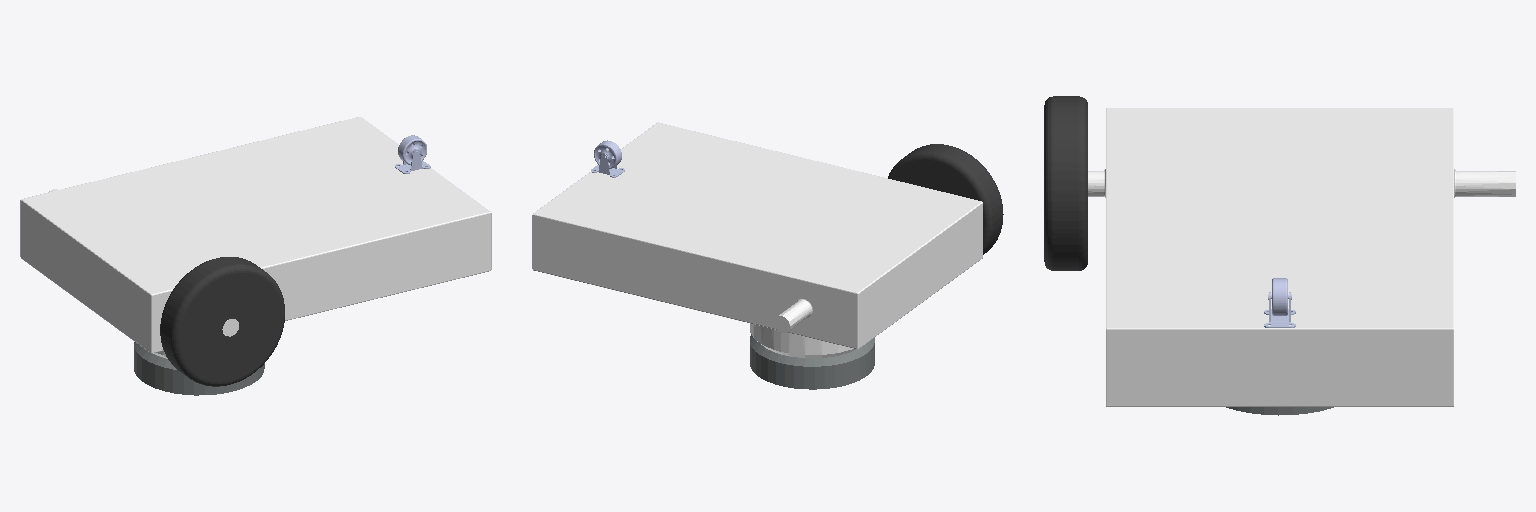
URDF robot description (diff_bot):
<?xml version="1.0" encoding="utf-8"?>
<!-- This URDF was automatically created by SolidWorks to URDF Exporter! Originally created by [author] ([email redacted]) 
     Commit Version: 1.6.0-4-g7f85cfe  Build Version: 1.6.7995.38578
     For more information, please see http://wiki.ros.org/sw_urdf_exporter -->
<robot
  name="diff_bot">

  <!-- The Base Link -->
  <link
    name="base_link">
    <inertial>
      <origin
        xyz="0.093917 -5.5511E-17 -0.055692"
        rpy="0 0 0" />
      <mass
        value="3.4689" />
      <inertia
        ixx="0.012207"
        ixy="-3.1988E-18"
        ixz="-0.00086716"
        iyy="0.025768"
        iyz="3.556E-20"
        izz="0.034797" />
    </inertial>
    <visual>
      <origin
        xyz="0 0 0"
        rpy="0 0 0" />
      <geometry>
        <mesh
          filename="package://diff_bot/meshes/base_link.STL" />
      </geometry>
      <material
        name="">
        <color
          rgba="1 1 1 1" />
      </material>
    </visual>
    <collision>
      <origin
        xyz="0 0 0"
        rpy="0 0 0" />
      <geometry>
        <mesh
          filename="package://diff_bot/meshes/base_link.STL" />
      </geometry>
    </collision>
  </link>
  
  <!-- The Right Wheel -->
  <link
    name="rt_whl">
    <inertial>
      <origin
        xyz="-3.4694E-18 0 0"
        rpy="0 0 0" />
      <mass
        value="0.18864" />
      <inertia
        ixx="0.00012828"
        ixy="-2.9912E-20"
        ixz="-4.7453E-40"
        iyy="0.00023743"
        iyz="1.7768E-37"
        izz="0.00012828" />
    </inertial>
    <visual>
      <origin
        xyz="0 0 0"
        rpy="0 0 0" />
      <geometry>
        <mesh
          filename="package://diff_bot/meshes/rt_whl.STL" />
      </geometry>
      <material
        name="">
        <color
          rgba="0.29804 0.29804 0.29804 1" />
      </material>
    </visual>
    <collision>
      <origin
        xyz="0 0 0"
        rpy="0 0 0" />
      <geometry>
        <mesh
          filename="package://diff_bot/meshes/rt_whl.STL" />
      </geometry>
    </collision>
  </link>
  
  <joint
    name="rt_whl_jnt"
    type="continuous">
    <origin
      xyz="0 0.1225 -0.05"
      rpy="0 0 0" />
    <parent
      link="base_link" />
    <child
      link="rt_whl" />
    <axis
      xyz="0 -1 0" />
  </joint>
  
  <!-- The Left Wheel -->
  <link
    name="lft_whl">
    <inertial>
      <origin
        xyz="5.8981E-17 2.7756E-17 0"
        rpy="0 0 0" />
      <mass
        value="0.18864" />
      <inertia
        ixx="0.00012828"
        ixy="-3.1324E-20"
        ixz="-4.7453E-40"
        iyy="0.00023743"
        iyz="1.7768E-37"
        izz="0.00012828" />
    </inertial>
    <visual>
      <origin
        xyz="0 0 0"
        rpy="0 0 0" />
      <geometry>
        <mesh
          filename="package://diff_bot/meshes/lft_whl.STL" />
      </geometry>
      <material
        name="">
        <color
          rgba="0.29804 0.29804 0.29804 1" />
      </material>
    </visual>
    <collision>
      <origin
        xyz="0 0 0"
        rpy="0 0 0" />
      <geometry>
        <mesh
          filename="package://diff_bot/meshes/lft_whl.STL" />
      </geometry>
    </collision>
  </link>
  
  <joint
    name="lft_whl_jnt"
    type="continuous">
    <origin
      xyz="0 -0.1225 -0.05"
      rpy="0 0 0" />
    <parent
      link="base_link" />
    <child
      link="lft_whl" />
    <axis
      xyz="0 -1 0" />
  </joint>
  
  <!-- The Castor joint -->
  <link
    name="cst">
    <inertial>
      <origin
        xyz="-2.0329E-06 0 0.0046193"
        rpy="0 0 0" />
      <mass
        value="0.50472" />
      <inertia
        ixx="2.0927E-08"
        ixy="5.5078E-24"
        ixz="6.0363E-12"
        iyy="2.3416E-08"
        iyz="4.7559E-24"
        izz="2.6073E-08" />
    </inertial>
    <visual>
      <origin
        xyz="0 0 0"
        rpy="0 0 0" />
      <geometry>
        <mesh
          filename="package://diff_bot/meshes/cst.STL" />
      </geometry>
      <material
        name="">
        <color
          rgba="0.79216 0.81961 0.93333 1" />
      </material>
    </visual>
    <collision>
      <origin
        xyz="0 0 0"
        rpy="0 0 0" />
      <geometry>
        <mesh
          filename="package://diff_bot/meshes/cst.STL" />
      </geometry>
    </collision>
  </link>
  
  <joint
    name="cst_jnt"
    type="fixed">
    <origin
      xyz="0.23793 0 -0.024623"
      rpy="0 0 0" />
    <parent
      link="base_link" />
    <child
      link="cst" />
    <axis
      xyz="0 0 0" />
  </joint>

  <!-- The Castor Wheel -->
  <link
    name="cst_whl">
    <inertial>
      <origin
        xyz="-8.621E-09 -2.899E-10 -4.7633E-09"
        rpy="0 0 0" />
      <mass
        value="0.826585" />
      <inertia
        ixx="9.6258E-08"
        ixy="-1.7013E-15"
        ixz="7.8648E-14"
        iyy="1.6326E-07"
        iyz="2.5172E-15"
        izz="9.6258E-08" />
    </inertial>
    <visual>
      <origin
        xyz="0 0 0"
        rpy="0 0 0" />
      <geometry>
        <mesh
          filename="package://diff_bot/meshes/cst_whl.STL" />
      </geometry>
      <material
        name="">
        <color
          rgba="0.79216 0.81961 0.93333 1" />
      </material>
    </visual>
    <collision>
      <origin
        xyz="0 0 0"
        rpy="0 0 0" />
      <geometry>
        <mesh
          filename="package://diff_bot/meshes/cst_whl.STL" />
      </geometry>
    </collision>
  </link>
  
  <joint
    name="cst_jnt_whl"
    type="continuous">
    <origin
      xyz="0 0 0.013756"
      rpy="0 0 0" />
    <parent
      link="cst" />
    <child
      link="cst_whl" />
    <axis
      xyz="0 1 0" />
  </joint>

  <!-- The Lidar -->
  <!--doesn't have to be a lidar. I will be adding many files with various sensors very soon-->
  <link
    name="lidar">
    <inertial>
      <origin
        xyz="0 0 -0.012713"
        rpy="0 0 0" />
      <mass
        value="0.15019" />
      <inertia
        ixx="0.00099875"
        ixy="2.7529E-21"
        ixz="2.757E-21"
        iyy="0.00099875"
        iyz="1.1401E-20"
        izz="0.0018451" />
    </inertial>
    <visual>
      <origin
        xyz="0 0 0"
        rpy="0 0 0" />
      <geometry>
        <mesh
          filename="package://diff_bot/meshes/lidar.STL" />
      </geometry>
      <material
        name="">
        <color
          rgba="0.52941 0.54902 0.54902 1" />
      </material>
    </visual>
    <collision>
      <origin
        xyz="0 0 0"
        rpy="0 0 0" />
      <geometry>
        <mesh
          filename="package://diff_bot/meshes/lidar.STL" />
      </geometry>
    </collision>
  </link>
  
  <joint
    name="lidar_jnt"
    type="continuous">
    <origin
      xyz="0.05 0 -0.125"
      rpy="0 0 0" />
    <parent
      link="base_link" />
    <child
      link="lidar" />
    <axis
      xyz="0 0 1" />
  </joint>

  <!-- Laser Plugin -->
  <gazebo reference="lidar">
    <sensor type="ray" name="head_hokuyo_sensor">
      <pose>0 0 0 0 0 0</pose>
      <visualize>true</visualize>
      <update_rate>40</update_rate>
      <ray>
        <scan>
          <horizontal>
            <samples>720</samples>
            <resolution>1</resolution>
            <min_angle>-3.141592</min_angle>
            <max_angle>3.141592</max_angle>
          </horizontal>
        </scan>
        <range>
          <min>0.10</min>
          <max>10.0</max>
          <resolution>0.01</resolution>
        </range>
        <noise>
          <type>gaussian</type>
          <mean>0.0</mean>
          <stddev>0.01</stddev>
        </noise>
      </ray>
      <plugin name="gazebo_ros_head_hokuyo_controller" filename="libgazebo_ros_laser.so">
        <topicName>/rrbot/laser/scan</topicName>
        <frameName>lidar</frameName>
      </plugin>
    </sensor>
  </gazebo>

  <!-- Differential Drive Plugin -->
  <gazebo>
    <plugin 
      name="differential_drive_controller" 
      filename="libgazebo_ros_diff_drive.so">
      <updateRate>10</updateRate>
      <leftJoint>lft_whl_jnt</leftJoint>
      <rightJoint>rt_whl_jnt</rightJoint>
      <wheelSeparation>0.2</wheelSeparation>
      <wheelDiameter>0.1</wheelDiameter>
      <wheelAcceleration>5.0</wheelAcceleration>
      <wheelTorque>20</wheelTorque>
      <commandTopic>cmd_vel</commandTopic>
      <odometryTopic>odom</odometryTopic>
      <odometryFrame>odom</odometryFrame>
      <robotBaseFrame>base_link</robotBaseFrame>
      <odometrySource>1</odometrySource>
      <publishWheelTF>true</publishWheelTF>
      <publishOdom>true</publishOdom>
      <publishWheelJointState>true</publishWheelJointState>
      <legacyMode>false</legacyMode>
    </plugin>
  </gazebo>

</robot>

--- Render facts (derived) ---
Views: 3 orthographic renders of the robot side by side, from view 1: azimuth 30°, elevation 25°; view 2: azimuth 150°, elevation 25°; view 3: azimuth 270°, elevation 25°.
Robot: diff_bot — 6 links, 5 joints (4 continuous, 1 fixed); root link base_link; default pose: every joint at zero.
Links seen in each view (by area): view 1: base_link, lft_whl, lidar, cst_whl; view 2: base_link, lft_whl, lidar; view 3: base_link, lft_whl, lidar, cst_whl.
Link boxes in pixels (x1,y1,x2,y2): base_link: (20,117,491,358); lft_whl: (160,257,284,386); lidar: (134,342,264,395); cst_whl: (398,135,426,164); base_link: (532,122,982,357); lft_whl: (888,144,1003,254); lidar: (750,334,874,389); base_link: (1088,108,1515,406); lft_whl: (1044,96,1087,270); lidar: (1226,407,1333,415); cst_whl: (1272,278,1287,315).
Size in the robot's own frame: 0.3 by 0.27 by 0.15 metres.
5 mesh visuals loaded from 6 distinct referenced files (5 binary STL); not drawn: 1 (reference not matched to a file when rendering).
